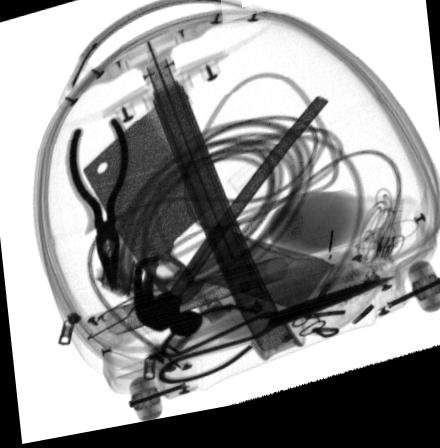Hammer: (132, 106, 329, 345)
Knife: (81, 108, 219, 313)
Pliers: (66, 120, 131, 298)
Scissors: (156, 292, 397, 389)
